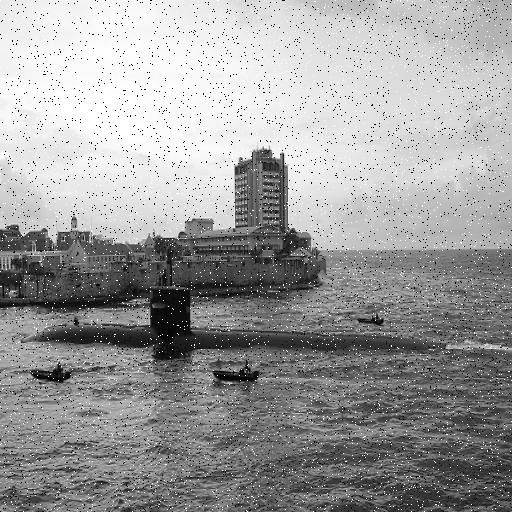submarine: (27, 282, 512, 353)
